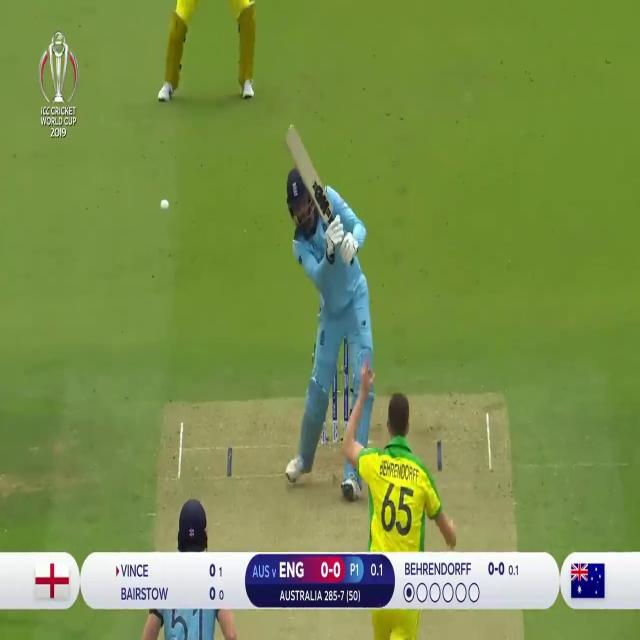ball: (152, 186, 180, 226)
